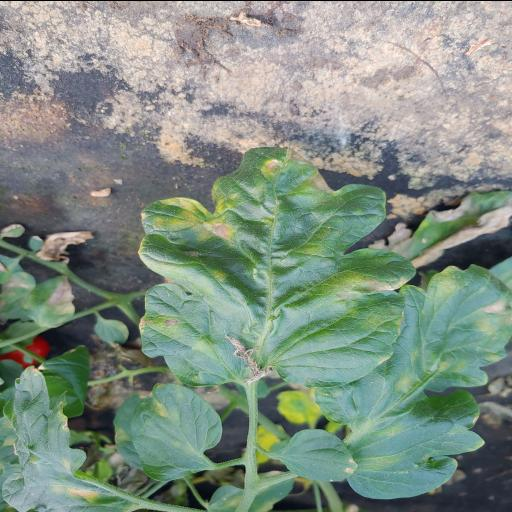Leaf Mold: (136, 145, 418, 389), (311, 263, 512, 498), (0, 364, 134, 512), (112, 380, 224, 480)
